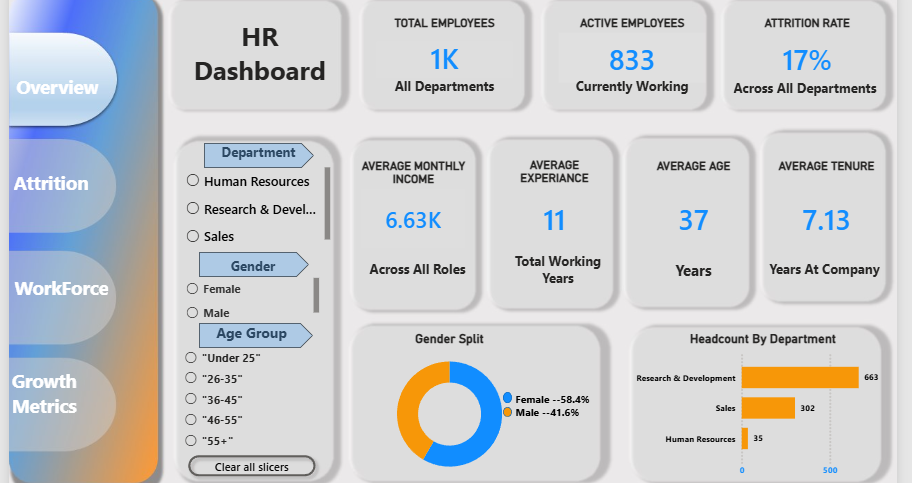

Layout of this report page (visuals, bound fields, positions):
{"tool":"powerbi","page":{"name":"Overview","canvas":[1280,720],"ordinal":0},"visuals":[{"type":"actionButton","box":[0,535.7,174.2,93.6],"z":0},{"type":"actionButton","box":[0,388.8,151.2,69.1],"z":1000},{"type":"actionButton","box":[0,239,121,66.2],"z":2000},{"type":"actionButton","box":[0,106.5,139,55.6],"z":3000},{"type":"textbox","box":[250.6,31.7,216,103.7],"z":4000},{"type":"cardVisual","title":"TOTAL EMPLOYEES","fields":{"Data":["Fact_HR_EmployeeData.Total Employees"]},"box":[515.5,33.1,223.2,102.2],"z":5000},{"type":"textbox","box":[515.5,116.6,223.2,46.1],"z":6000},{"type":"cardVisual","title":"ACTIVE EMPLOYEES","fields":{"Data":["Fact_HR_EmployeeData.Active Employees"]},"box":[785.9,32.4,222.3,101.9],"z":7000},{"type":"textbox","box":[785.9,117.3,222.3,52.5],"z":8000},{"type":"textbox","box":[1037.6,118.9,242.4,47.9],"z":9000},{"type":"cardVisual","title":"ATTRITION RATE","fields":{"Data":["Fact_HR_EmployeeData.Attrition Rate"]},"box":[1037.6,32.4,222.3,101.9],"z":10000},{"type":"cardVisual","title":"AVERAGE AGE","fields":{"Data":["Fact_HR_EmployeeData.Average Age"]},"box":[897.1,239,177.1,149.8],"z":11000},{"type":"textbox","box":[914.4,380.2,142.6,43.2],"z":12000},{"type":"cardVisual","title":"AVERAGE TENURE","fields":{"Data":["Fact_HR_EmployeeData.Average Tenure"]},"box":[1088.6,239,177.1,149.8],"z":13000},{"type":"textbox","box":[1088.5,379.8,171.4,54],"z":14000},{"type":"barChart","title":"Headcount By Department","fields":{"Y":["Sum(Fact_HR_EmployeeData.Employee Count)"],"Category":["Fact_HR_EmployeeData.Department"]},"box":[897.1,486.7,377.3,218.9],"z":15000},{"type":"donutChart","title":"Gender Split","fields":{"Y":["Fact_HR_EmployeeData.Gender %"],"Category":["Fact_HR_EmployeeData.Gender"]},"box":[515.7,486.4,237.8,219.3],"z":16000},{"type":"textbox","box":[724.1,568.2,125.1,74.1],"z":17000},{"type":"shape","box":[711.6,595.7,12.9,14.5],"z":18000},{"type":"shape","box":[711.6,574.8,12.9,16.1],"z":19000},{"type":"cardVisual","title":"AVERAGE EXPERIANCE","fields":{"Data":["Fact_HR_EmployeeData.Average Working Years"]},"box":[701.3,237.6,168.5,133.9],"z":20000},{"type":"textbox","box":[711.4,373,158.4,59],"z":21000},{"type":"cardVisual","title":"AVERAGE MONTHLY INCOME","fields":{"Data":["Fact_HR_EmployeeData.Average Monthly Income"]},"box":[502.6,239,159.8,133.9],"z":22000},{"type":"textbox","box":[502.6,380.2,171.4,43.2],"z":23000},{"type":"listSlicer","fields":{"Values":["Fact_HR_EmployeeData.Department"]},"box":[250.6,216,217.4,157],"z":24000},{"type":"listSlicer","fields":{"Values":["Fact_HR_EmployeeData.Gender"]},"box":[250.6,380.2,201.6,97.9],"z":25000},{"type":"actionButton","box":[249.6,656.9,201.3,48.3],"z":26000},{"type":"listSlicer","fields":{"Values":["Fact_HR_EmployeeData.Age Group"]},"box":[247.7,475.2,203,198.7],"z":27000},{"type":"shape","box":[280.8,216,158.4,36],"z":28000},{"type":"shape","box":[273.6,373,158.4,36],"z":29000},{"type":"shape","box":[273.6,475.2,164.2,36],"z":30000}]}

Visuals, with their boxes on the page's 1280x720 design canvas (x1, y1, x2, y2). These are canvas units, not pixel positions in the 912x483 screenshot, which may show the page scaled, cropped or inside an application window:
actionButton: bbox(0, 536, 174, 629)
actionButton: bbox(0, 389, 151, 458)
actionButton: bbox(0, 239, 121, 305)
actionButton: bbox(0, 106, 139, 162)
textbox: bbox(251, 32, 467, 135)
"TOTAL EMPLOYEES" cardVisual: bbox(516, 33, 739, 135)
textbox: bbox(516, 117, 739, 163)
"ACTIVE EMPLOYEES" cardVisual: bbox(786, 32, 1008, 134)
textbox: bbox(786, 117, 1008, 170)
textbox: bbox(1038, 119, 1280, 167)
"ATTRITION RATE" cardVisual: bbox(1038, 32, 1260, 134)
"AVERAGE AGE" cardVisual: bbox(897, 239, 1074, 389)
textbox: bbox(914, 380, 1057, 423)
"AVERAGE TENURE" cardVisual: bbox(1089, 239, 1266, 389)
textbox: bbox(1088, 380, 1260, 434)
"Headcount By Department" barChart: bbox(897, 487, 1274, 706)
"Gender Split" donutChart: bbox(516, 486, 754, 706)
textbox: bbox(724, 568, 849, 642)
shape: bbox(712, 596, 724, 610)
shape: bbox(712, 575, 724, 591)
"AVERAGE EXPERIANCE" cardVisual: bbox(701, 238, 870, 372)
textbox: bbox(711, 373, 870, 432)
"AVERAGE MONTHLY INCOME" cardVisual: bbox(503, 239, 662, 373)
textbox: bbox(503, 380, 674, 423)
listSlicer - Fact_HR_EmployeeData.Department: bbox(251, 216, 468, 373)
listSlicer - Fact_HR_EmployeeData.Gender: bbox(251, 380, 452, 478)
actionButton: bbox(250, 657, 451, 705)
listSlicer - Fact_HR_EmployeeData.Age Group: bbox(248, 475, 451, 674)
shape: bbox(281, 216, 439, 252)
shape: bbox(274, 373, 432, 409)
shape: bbox(274, 475, 438, 511)
